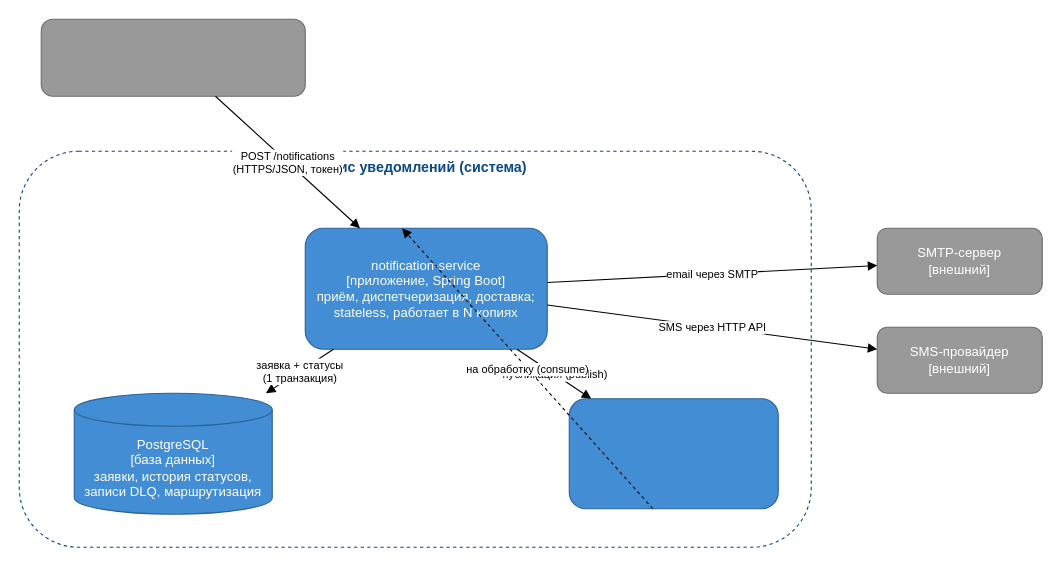
This 1062x567 diagram has some shape labels left out. Here are the shapes that lost their labels. From the top down, the centre of each, then its label:
[172,57]: Внутренние системы-отправители [внешние] монолит, CRM, маркетинг
[673,453]: RabbitMQ [брокер сообщений] очередь диспетчера, retry, dead-letter
